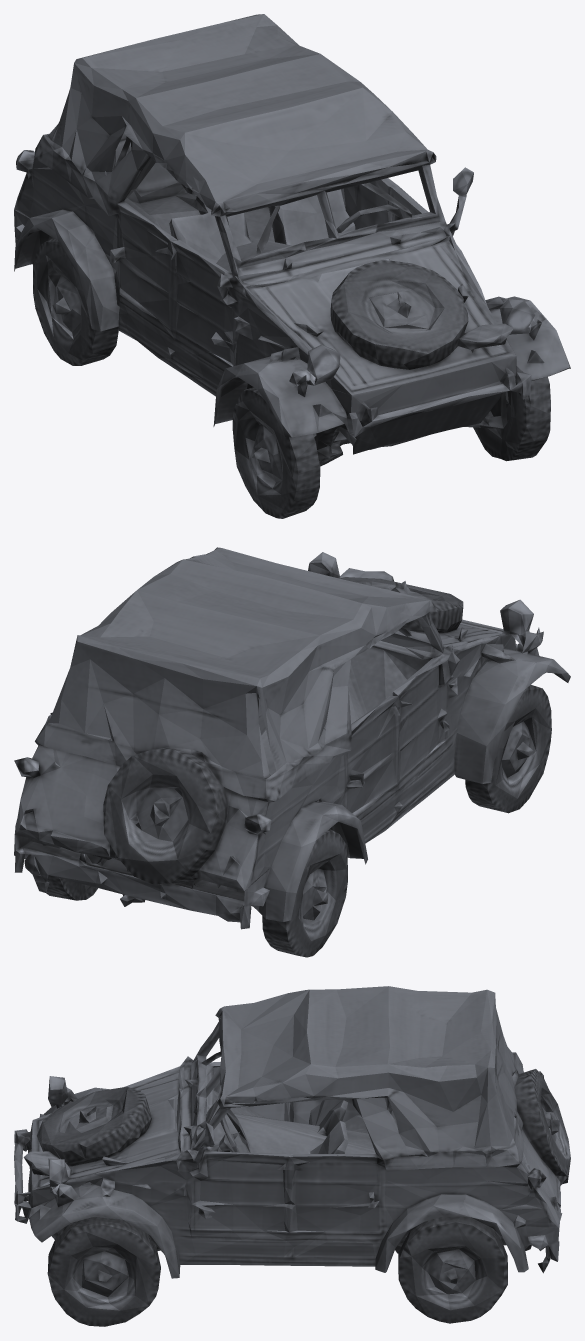
The model's file is kubelwagen_hull.obj.
3 renders of one model, top to bottom at view 1: azimuth 30°, elevation 25°; view 2: azimuth 150°, elevation 25°; view 3: azimuth 270°, elevation 25°, orthographic. The views are drawn at different scales.
Visible parts, largest first — view 1: kubelwagen_hull; view 2: kubelwagen_hull; view 3: kubelwagen_hull.
Boxes of the visible parts, x1,y1,x2,y2 form: kubelwagen_hull: (14, 14, 570, 518); kubelwagen_hull: (14, 547, 570, 957); kubelwagen_hull: (14, 986, 570, 1326).
Bounding box in the file's own units: 1.92 × 1.82 × 3.7.
1 material, 1 textured.
